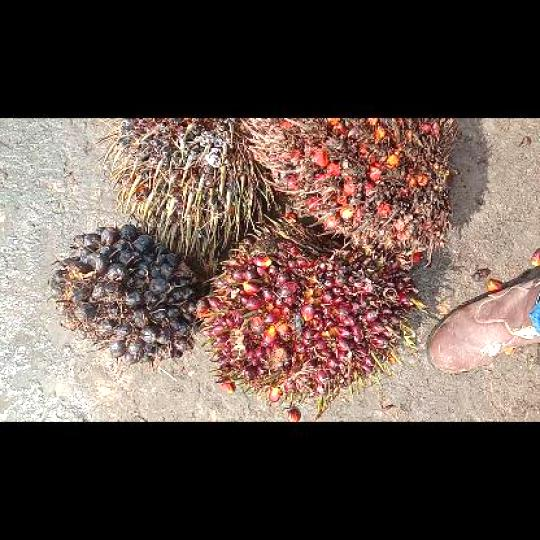masak: (199, 214, 411, 406)
terlalu masak: (244, 117, 461, 267)
